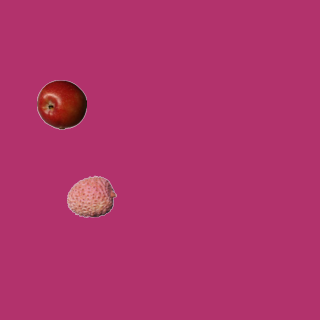Apple Braeburn: (36, 79, 86, 129)
Lychee: (66, 171, 116, 221)
